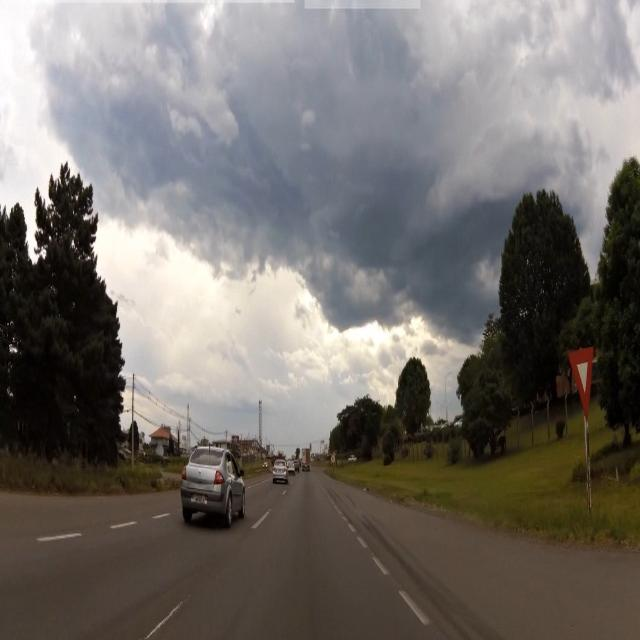R-2: (568, 347, 595, 418)
